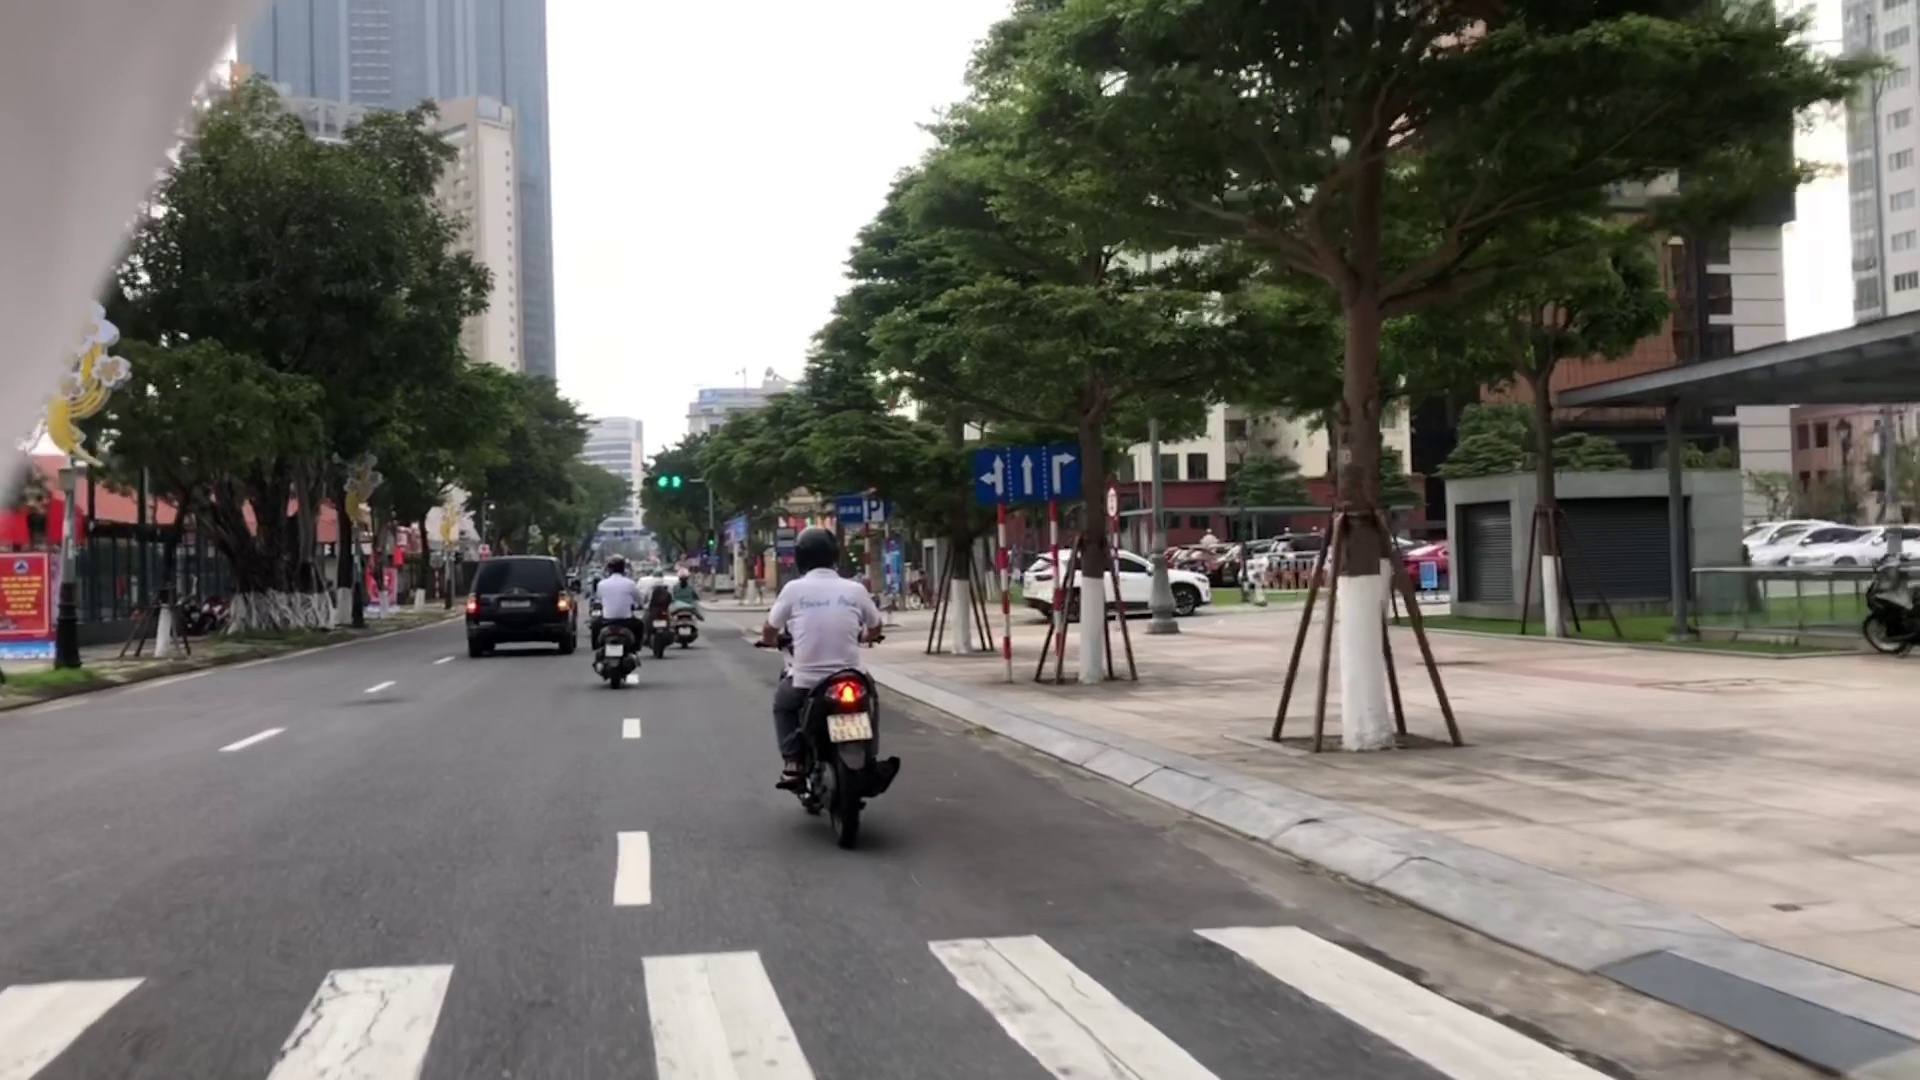Bien khac: (972, 440, 1083, 502)
